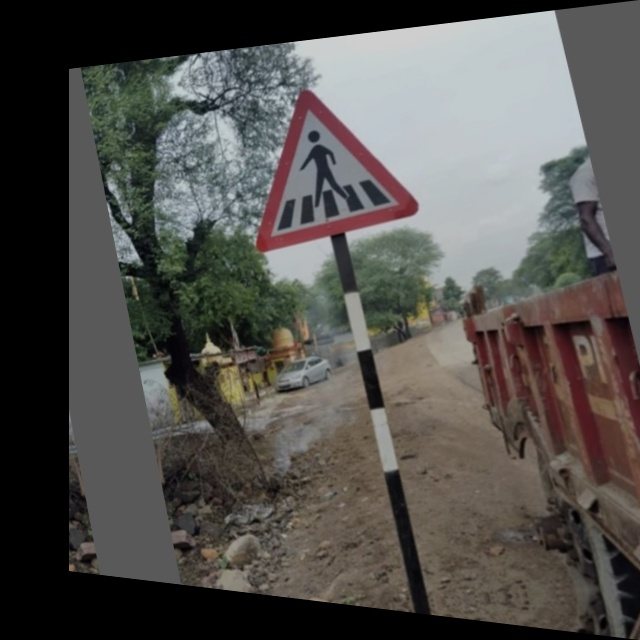Pedestrian_Crossing: (231, 60, 430, 258)
